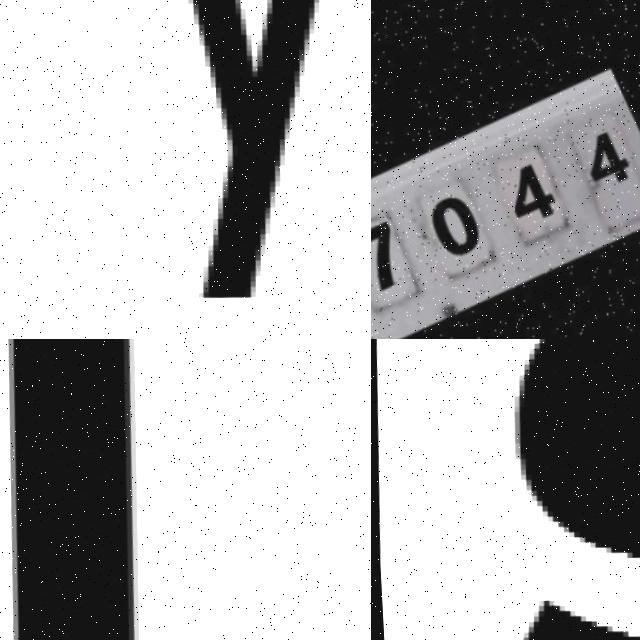0: (401, 169, 494, 284)
1: (0, 339, 240, 640)
4: (476, 141, 567, 249), (556, 110, 640, 214)
7: (371, 200, 419, 315)
S: (443, 339, 640, 640)
Y: (101, 0, 371, 307)
